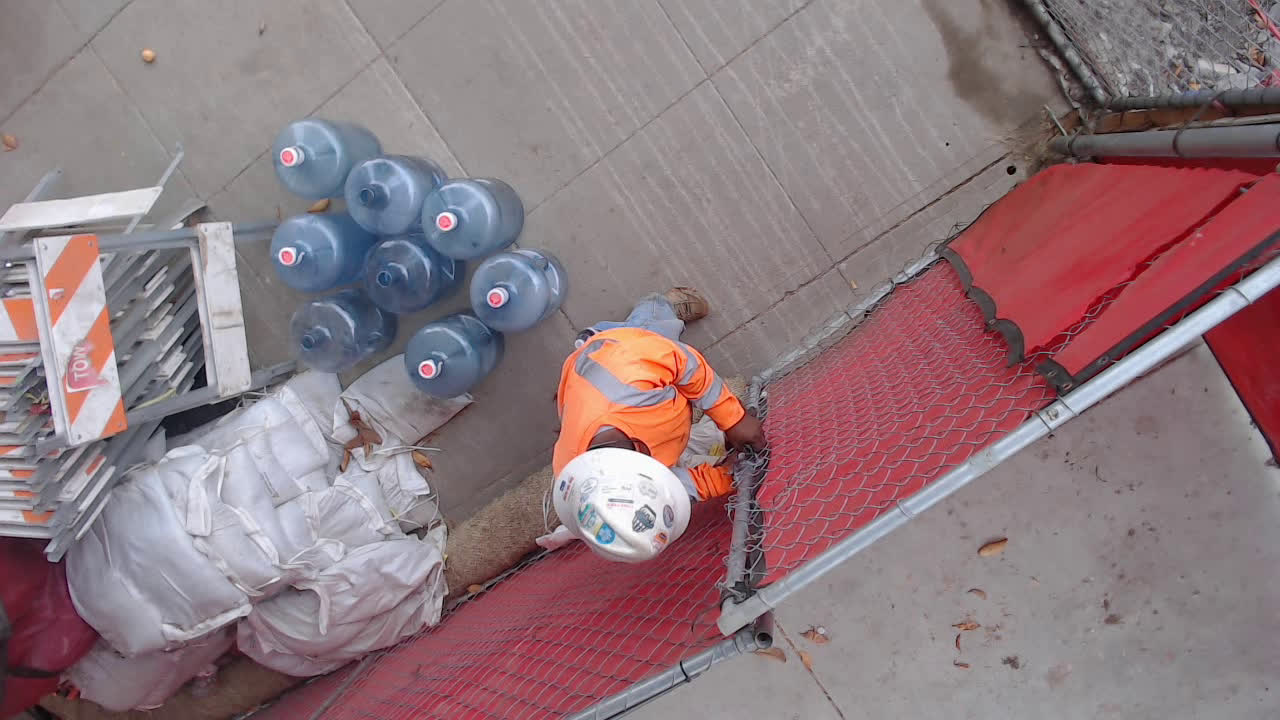hardhat: (552, 448, 690, 566)
safetyvest: (555, 331, 734, 506)
